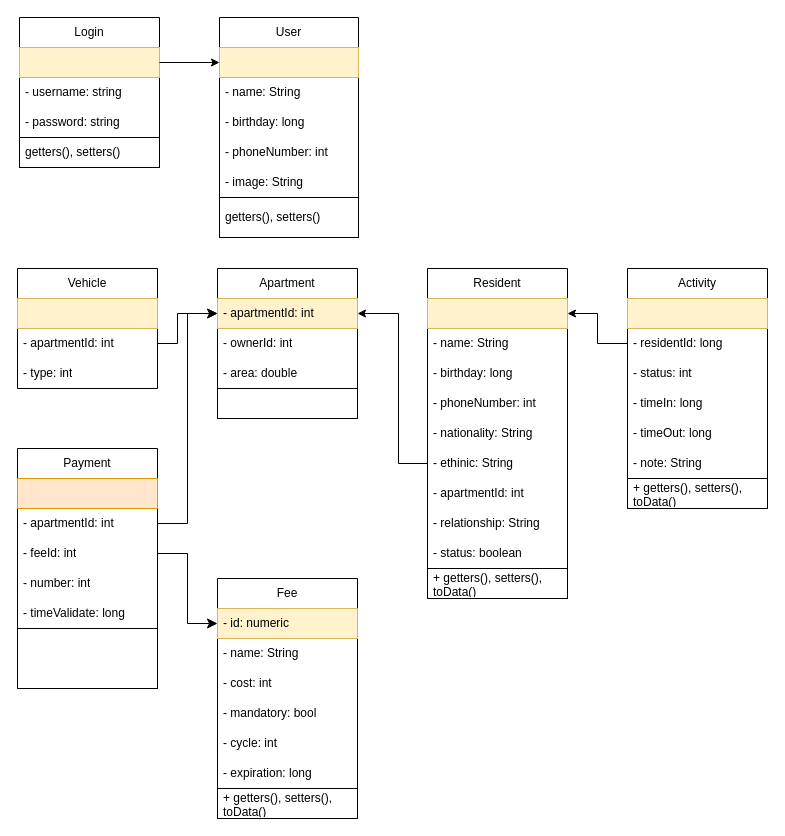
Image size: 785x836. Some labels were removed from this diagram. The centre of each missing label's shape, as x and y in pixels:
"+ getArea(): double" belongs at [287,403].
"+ getTotal(): int + getters(), setters(), toData()" belongs at [87,658].
"- id: int" belongs at [697,313].
"- id: long" belongs at [497,313].
"- license plates: String" belongs at [87,313].
"- paymentId: int" belongs at [87,493].
"- userId: int" belongs at [89,62].
"- userId: numeric" belongs at [288,62].
